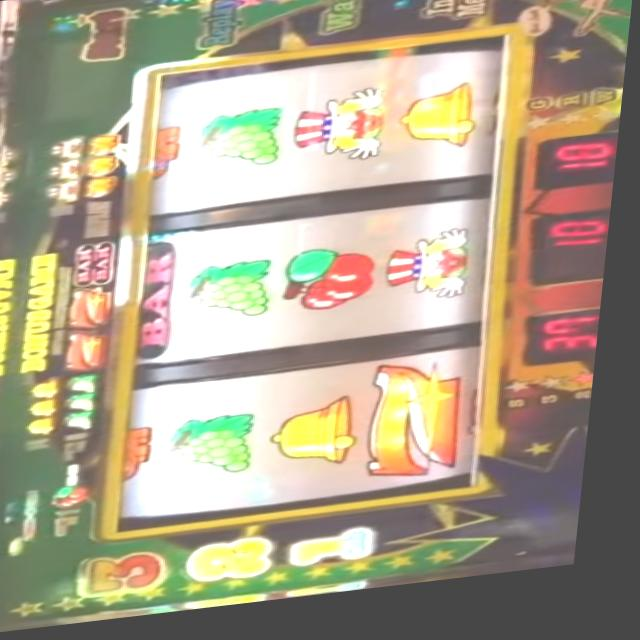bar: (140, 244, 187, 366), (82, 242, 117, 289)
bell: (276, 404, 370, 482), (403, 91, 487, 162), (33, 380, 69, 403), (35, 417, 66, 440), (36, 400, 66, 420)
cherry: (288, 253, 381, 323), (62, 485, 102, 512)
clown: (292, 94, 393, 176), (391, 239, 478, 314), (51, 181, 83, 208), (52, 138, 88, 162), (50, 161, 82, 185)
display: (124, 44, 516, 537)
elephant: (152, 128, 187, 188), (132, 427, 163, 488), (84, 157, 120, 182), (93, 134, 125, 159), (91, 178, 120, 201)
grape: (173, 416, 272, 486), (189, 262, 278, 330), (200, 111, 286, 179), (71, 412, 107, 434), (73, 395, 106, 417), (73, 377, 107, 398)
z: (375, 367, 478, 492), (74, 291, 117, 333), (70, 333, 114, 373)
